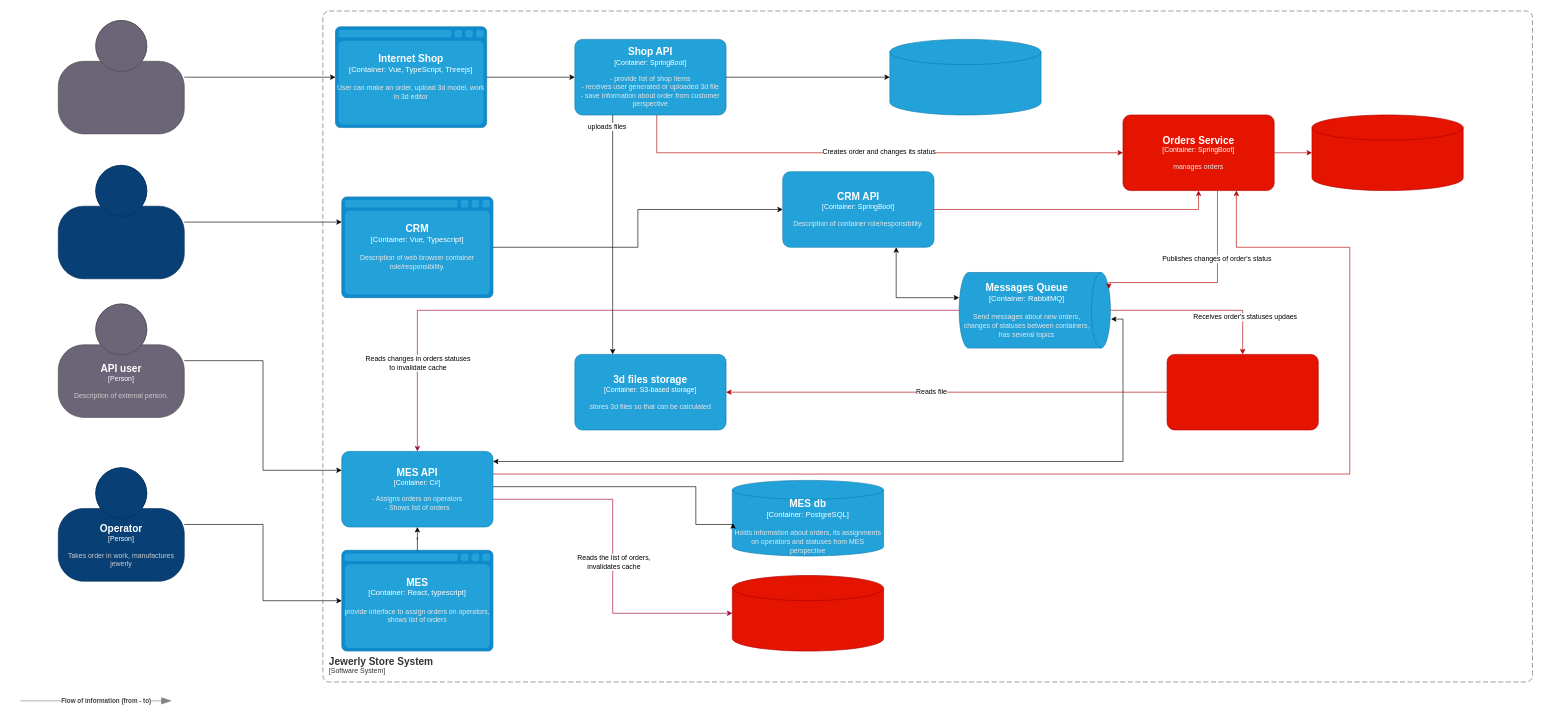
Image size: 1544x722. Some labels were removed from this diagram. Here are the shapes that lost their labels. From the top down, the centre of each, then its label:
At point 121,77: "Customer [Person] Description of external person.".
At point 965,77: "Shop DB [Container: PostgreSQL] Holds main information about work with customers".
At point 1387,152: "Orders DB [Container: PostgreSQL] Holds main information about orders".
At point 121,222: "Seller [Person] Operates with order, confirms manufacturing for the user".
At point 1242,392: "Price Calculator [Container: C#] calculates price of the order".
At point 808,613: "MES cache [Container: Redis] Holds main information about orders".
